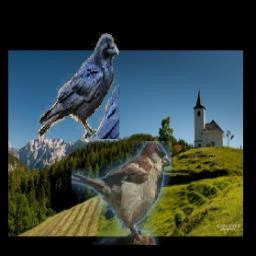Crow: (37, 34, 119, 140)
Sparrow: (71, 142, 171, 246)
